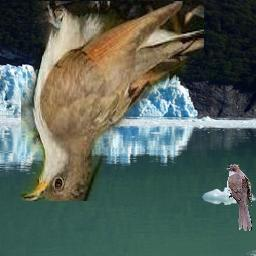Cuckoo: (22, 1, 205, 201), (224, 165, 252, 232)
